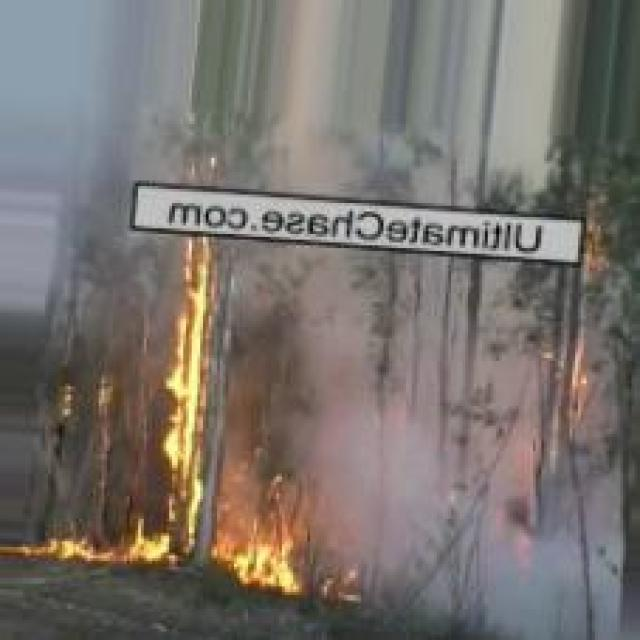Fire: (6, 231, 302, 592)
Smoke: (239, 123, 640, 640)
